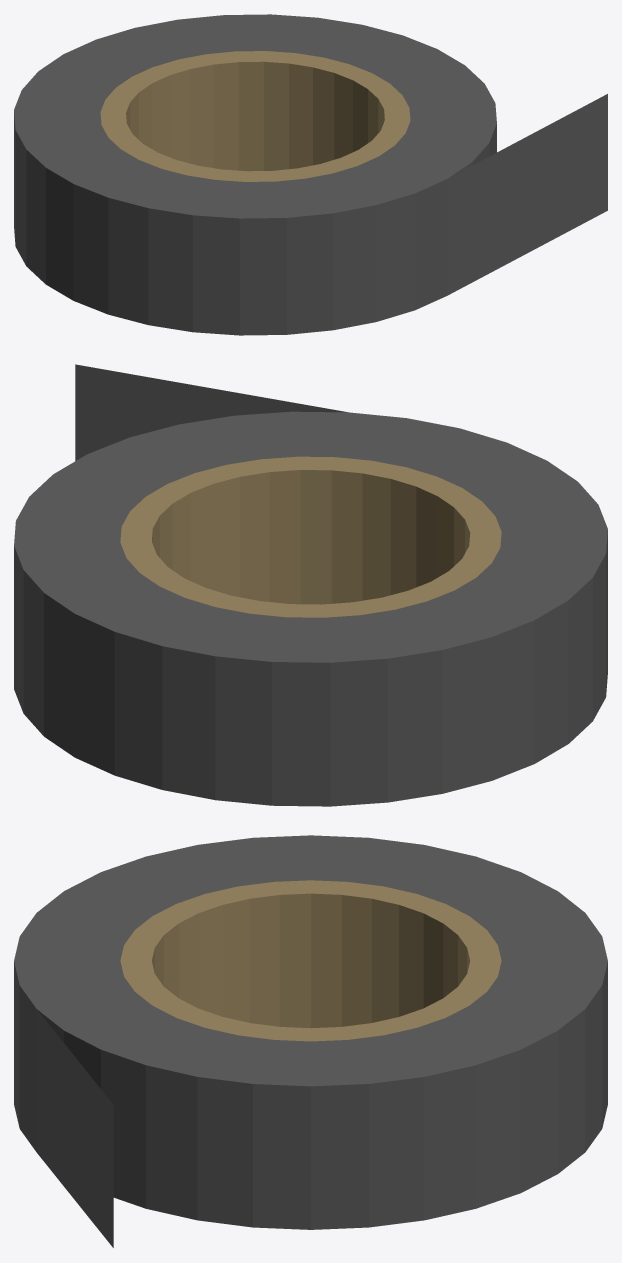
Rendered from duct tape.fbx.
3 views of the same model, one above another, from view 1: azimuth 30°, elevation 25°; view 2: azimuth 150°, elevation 25°; view 3: azimuth 270°, elevation 25° (orthographic). The views are drawn at different scales.
Parts seen in each view (by area): view 1: Cylinder, Cylinder.001; view 2: Cylinder, Cylinder.001; view 3: Cylinder, Cylinder.001.
Part boxes in pixels (bbox=[...]): Cylinder: bbox=[14, 14, 607, 335]; Cylinder.001: bbox=[100, 51, 410, 181]; Cylinder: bbox=[14, 364, 607, 806]; Cylinder.001: bbox=[120, 456, 501, 617]; Cylinder: bbox=[14, 835, 607, 1247]; Cylinder.001: bbox=[120, 880, 501, 1041].
Size of the model in its own units: 2.07 by 0.5465 by 1.8.
